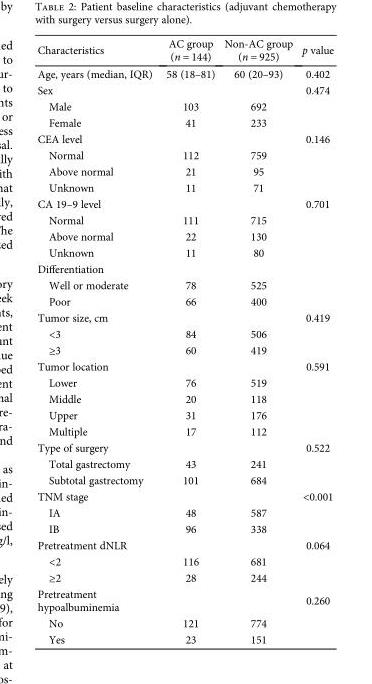table: (36, 36, 333, 645)
table column: (36, 36, 158, 645), (218, 36, 296, 645), (158, 36, 218, 645), (296, 36, 333, 645)
table column header: (36, 36, 333, 65)
table projected row header: (36, 260, 333, 276)
table row: (36, 36, 333, 65), (36, 586, 333, 614), (36, 486, 333, 505), (36, 324, 333, 342), (36, 551, 333, 569), (36, 81, 333, 98), (36, 146, 333, 163), (36, 227, 333, 244), (36, 276, 333, 293), (36, 422, 333, 439), (36, 569, 333, 586), (36, 614, 333, 631), (36, 65, 333, 81), (36, 98, 333, 114), (36, 114, 333, 130), (36, 130, 333, 146), (36, 163, 333, 179), (36, 179, 333, 195), (36, 195, 333, 211), (36, 211, 333, 227), (36, 244, 333, 260), (36, 260, 333, 276), (36, 293, 333, 309), (36, 342, 333, 358), (36, 358, 333, 374), (36, 374, 333, 390), (36, 390, 333, 406), (36, 406, 333, 422), (36, 439, 333, 455), (36, 455, 333, 471), (36, 520, 333, 536), (36, 309, 333, 324), (36, 471, 333, 486), (36, 505, 333, 520), (36, 536, 333, 551), (36, 631, 333, 645)
